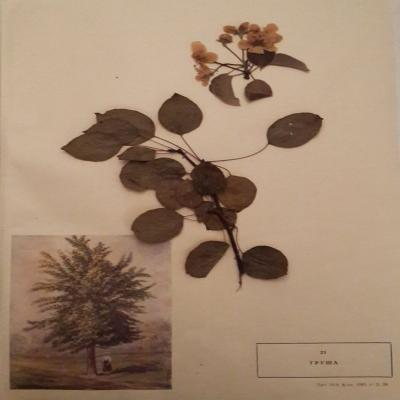natural_science_collection: (62, 94, 289, 282), (192, 23, 310, 107), (267, 113, 324, 150)
